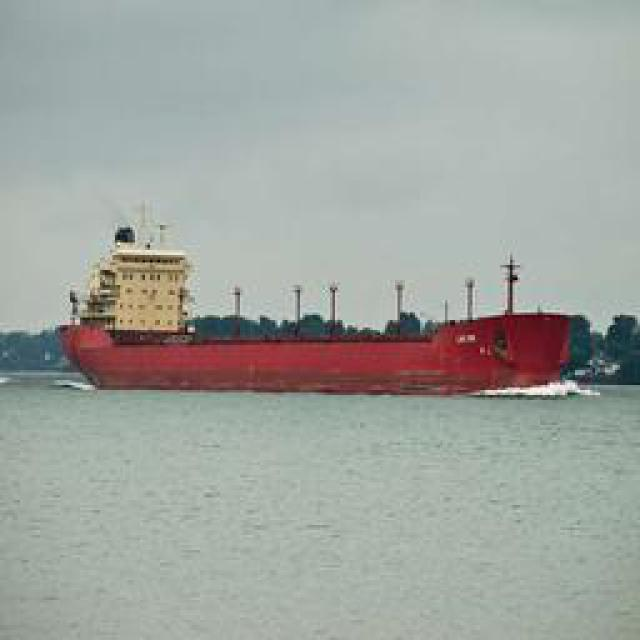Ship: (59, 224, 592, 397)
